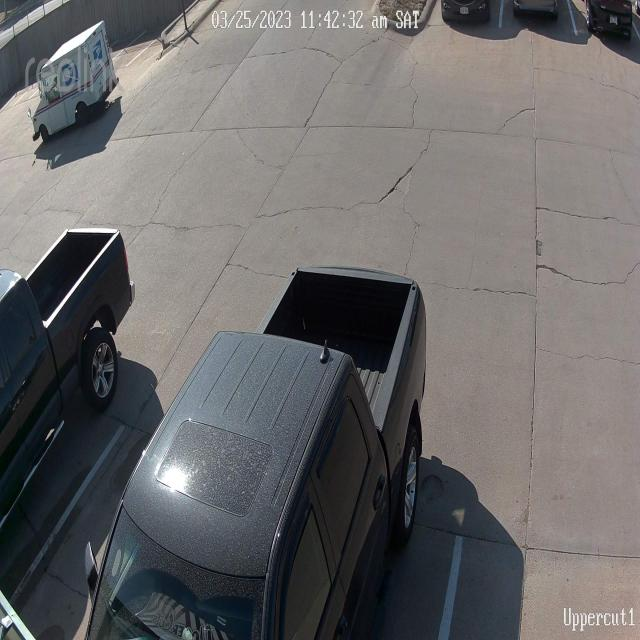Car: (31, 31, 126, 151)
Empty-slot: (436, 384, 640, 640), (15, 391, 159, 640)
Slot-Occupied: (107, 273, 425, 640), (0, 228, 134, 464), (584, 0, 638, 60), (515, 0, 569, 46), (441, 0, 503, 39)
